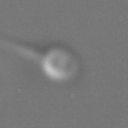normal: (1, 30, 45, 62)
